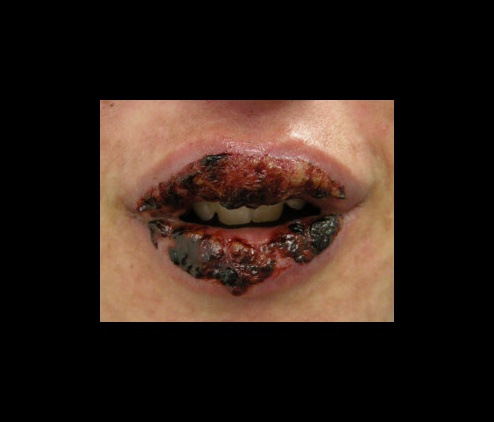SJS-TEN: (87, 75, 406, 340)
